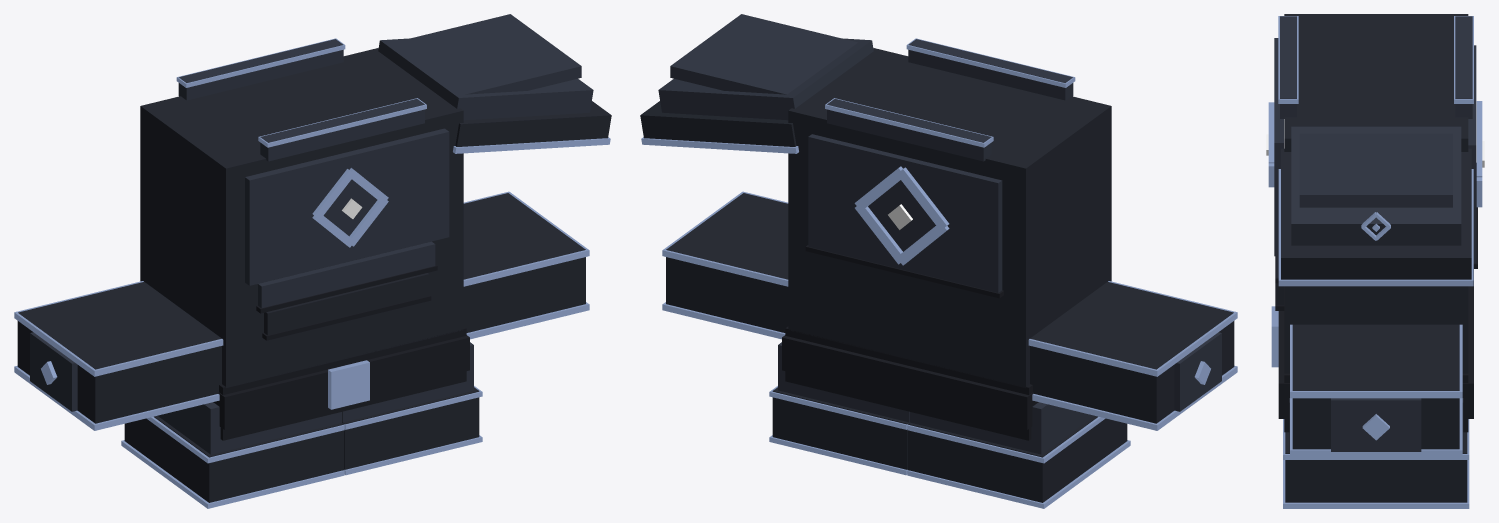
3 views of the same model, side by side, from view 1: azimuth 30°, elevation 25°; view 2: azimuth 150°, elevation 25°; view 3: azimuth 270°, elevation 25° (orthographic). The views are drawn at different scales.
Visible parts, largest first — view 1: rank-none-c; view 2: rank-none-c; view 3: rank-none-c.
Boxes of the visible parts, <box> form: rank-none-c: <box>14,14,611,508</box>; rank-none-c: <box>640,14,1237,508</box>; rank-none-c: <box>1266,14,1484,508</box>.
Bounding box in the file's own units: 1.2 × 0.7806 × 0.4071.
